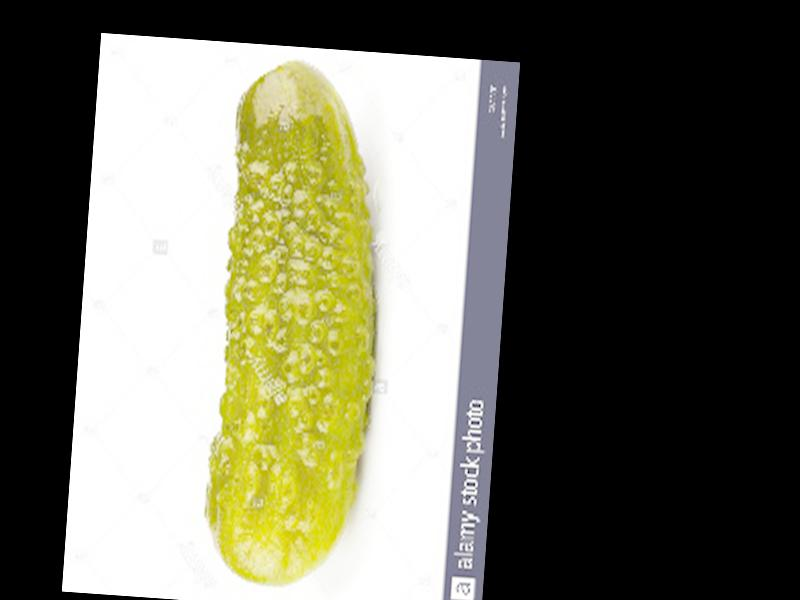Cucumber: (200, 54, 396, 592)
